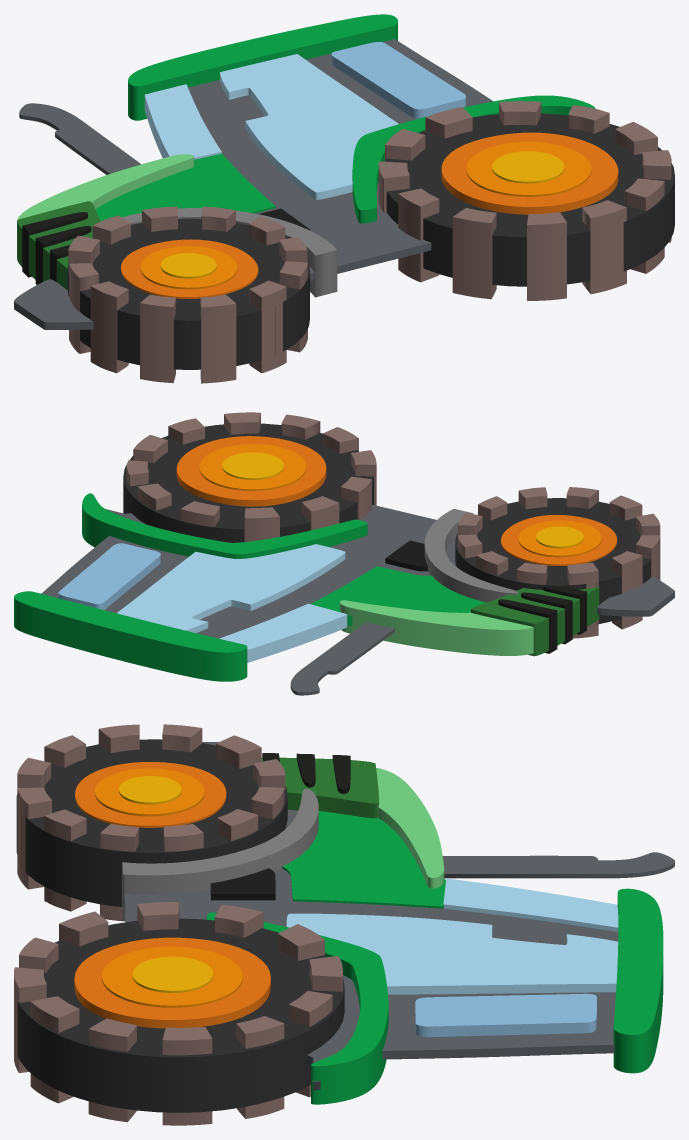
The model's file is emoji_u1f69c.glb.
3 views of the same model, one above another, from view 1: azimuth 30°, elevation 25°; view 2: azimuth 150°, elevation 25°; view 3: azimuth 270°, elevation 25° (orthographic). The views are drawn at different scales.
Visible parts, largest first — view 1: emoji_u1f69c; view 2: emoji_u1f69c; view 3: emoji_u1f69c.
Boxes of the visible parts, bbox=[...] form: emoji_u1f69c: bbox=[14, 14, 674, 383]; emoji_u1f69c: bbox=[14, 412, 674, 695]; emoji_u1f69c: bbox=[14, 724, 674, 1125].
Size of the model in its own units: 0.0343 by 0.004 by 0.0281.
